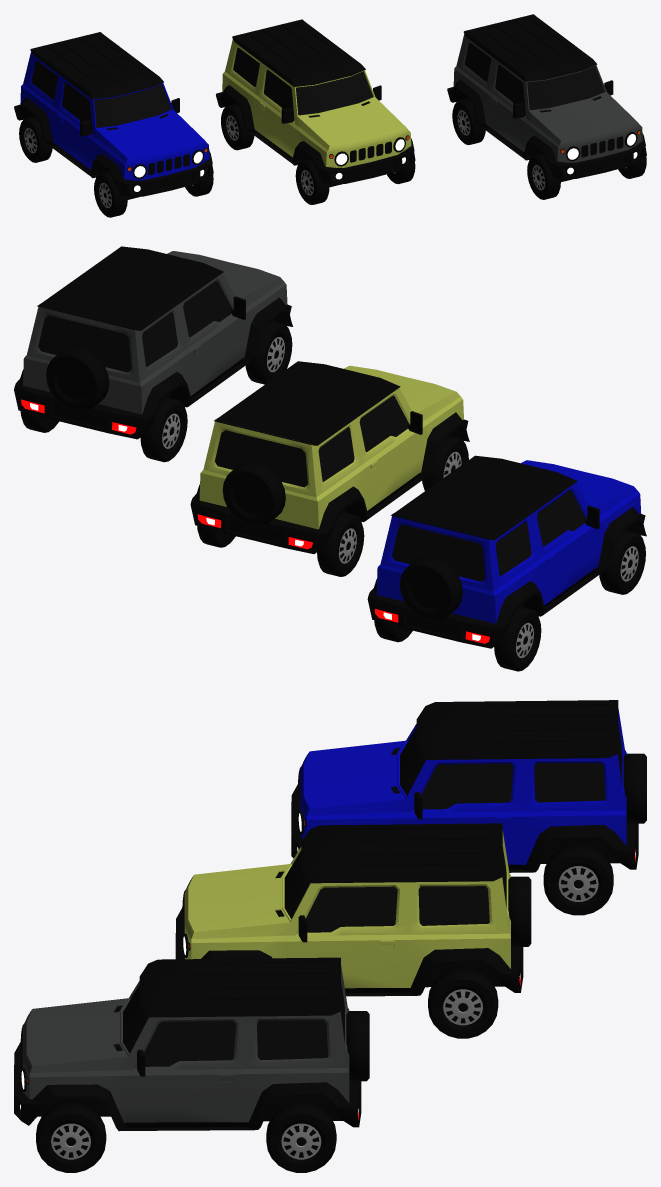
Rendered from offroad-car.glb.
3 renders of one model, top to bottom at view 1: azimuth 30°, elevation 25°; view 2: azimuth 150°, elevation 25°; view 3: azimuth 270°, elevation 25°, orthographic. The views are drawn at different scales.
Visible parts, largest first — view 1: Cube.002_14, Cube_5, Cube.004_21, Cylinder.002_2, Cylinder.007_11, Cylinder.012_18, Cylinder.008_12, Cylinder.013_19, Cylinder.003_3, Cylinder.010_16, Cylinder.005_9, Cylinder_0; view 2: Cube.002_14, Cube_5, Cube.004_21, Cylinder.004_4, Cylinder.009_13, Cylinder.014_20, Cylinder.013_19, Cylinder.003_3, Cylinder.008_12, Cylinder.012_18, Cylinder.007_11, Cylinder.002_2; view 3: Cube.002_14, Cube_5, Cube.004_21, Cylinder.005_9, Cylinder.006_10, Cylinder.001_1, Cylinder.011_17, Cylinder.004_4, Cylinder.009_13, Cylinder.014_20.
Boxes of the visible parts, left/top/right/bottom form: Cube.002_14: left=447, top=14, right=646, bottom=178; Cube_5: left=216, top=19, right=415, bottom=183; Cube.004_21: left=14, top=32, right=213, bottom=196; Cylinder.002_2: left=295, top=158, right=329, bottom=204; Cylinder.007_11: left=527, top=153, right=560, bottom=199; Cylinder.012_18: left=94, top=171, right=127, bottom=217; Cylinder.008_12: left=452, top=98, right=485, bottom=144; Cylinder.013_19: left=19, top=116, right=52, bottom=162; Cylinder.003_3: left=221, top=103, right=254, bottom=150; Cylinder.010_16: left=185, top=174, right=213, bottom=196; Cylinder.005_9: left=618, top=156, right=646, bottom=178; Cylinder_0: left=387, top=161, right=415, bottom=184; Cube.002_14: left=14, top=246, right=292, bottom=439; Cube_5: left=190, top=361, right=469, bottom=553; Cube.004_21: left=367, top=455, right=646, bottom=648; Cylinder.004_4: left=222, top=461, right=285, bottom=526; Cylinder.009_13: left=46, top=346, right=109, bottom=411; Cylinder.014_20: left=399, top=556, right=462, bottom=620; Cylinder.013_19: left=494, top=606, right=541, bottom=671; Cylinder.003_3: left=317, top=511, right=364, bottom=576; Cylinder.008_12: left=140, top=397, right=187, bottom=462; Cylinder.012_18: left=599, top=530, right=645, bottom=594; Cylinder.007_11: left=245, top=320, right=292, bottom=384; Cylinder.002_2: left=422, top=435, right=468, bottom=490; Cube.002_14: left=14, top=957, right=361, bottom=1131; Cube_5: left=175, top=823, right=523, bottom=996; Cube.004_21: left=291, top=700, right=638, bottom=872; Cylinder.005_9: left=36, top=1102, right=106, bottom=1172; Cylinder.006_10: left=266, top=1102, right=336, bottom=1172; Cylinder.001_1: left=428, top=968, right=498, bottom=1038; Cylinder.011_17: left=543, top=845, right=613, bottom=915; Cylinder.004_4: left=508, top=876, right=531, bottom=946; Cylinder.009_13: left=346, top=1011, right=369, bottom=1081; Cylinder.014_20: left=623, top=753, right=646, bottom=823.
Size of the model in its own units: 8.18 by 1.78 by 6.59.
